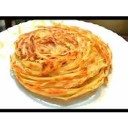parota: (13, 24, 112, 98)
